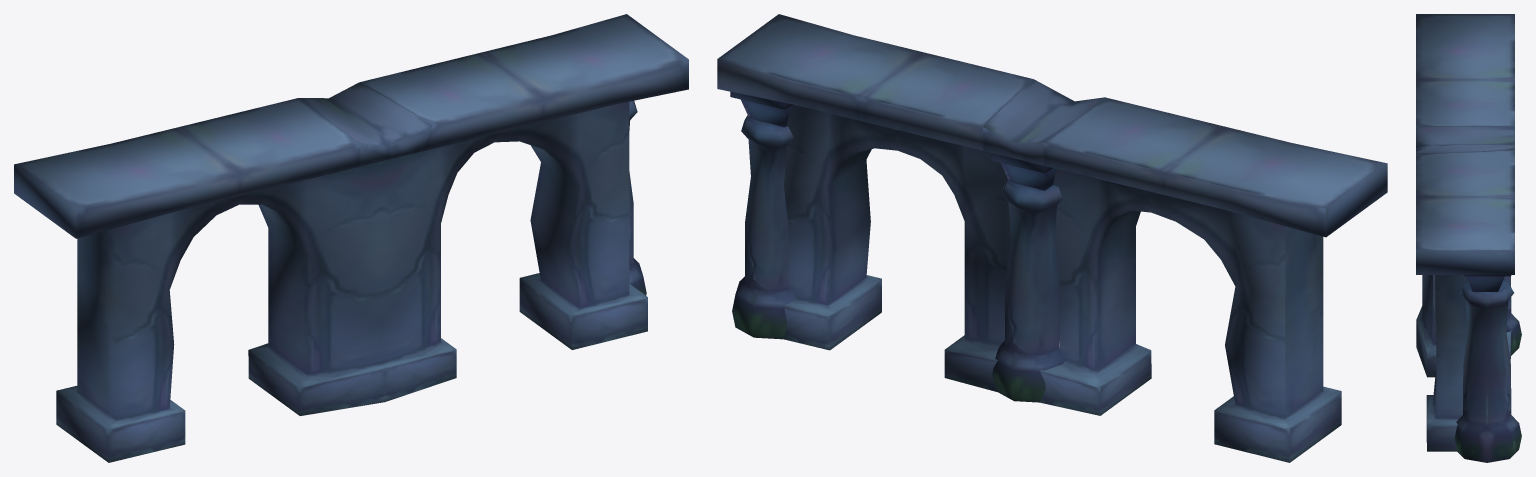
File: wujian.FBX
3 renders of one model, left to right at view 1: azimuth 30°, elevation 25°; view 2: azimuth 150°, elevation 25°; view 3: azimuth 270°, elevation 25°, orthographic. The views are drawn at different scales.
Visible parts, largest first — view 1: Object006; view 2: Object006; view 3: Object006.
Part boxes in pixels (bbox=[...]): Object006: bbox=[14, 14, 688, 462]; Object006: bbox=[717, 14, 1387, 462]; Object006: bbox=[1416, 14, 1521, 462].
Size of the model in its own units: 1633 by 684 by 307.
